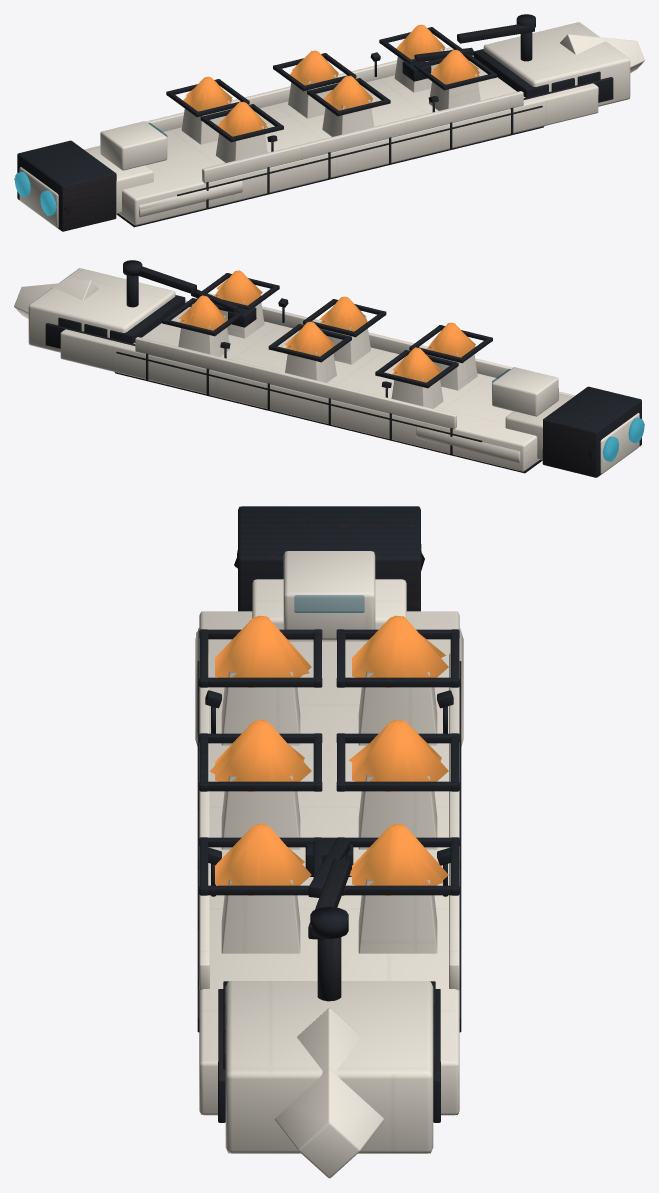
File: ore_barge.glb
3 views of the same model, one above another, from view 1: azimuth 30°, elevation 25°; view 2: azimuth 150°, elevation 25°; view 3: azimuth 270°, elevation 25° (orthographic). The views are drawn at different scales.
Visible parts, largest first — view 1: LOD0_Merged_Material_Hull, LOD0_Merged_Material_Mechanical, LOD0_Merged_Material_Warm, LOD1_Merged_Material_Hull, LOD1_Merged_Material_Warm, LOD0_HOOK_DRIVE_CORE, LOD2_Merged_Material_Warm; view 2: LOD0_Merged_Material_Hull, LOD0_Merged_Material_Mechanical, LOD0_Merged_Material_Warm, LOD1_Merged_Material_Warm, LOD1_Merged_Material_Hull, LOD0_HOOK_DRIVE_CORE, LOD2_Merged_Material_Warm; view 3: LOD0_Merged_Material_Hull, LOD0_Merged_Material_Mechanical, LOD0_Merged_Material_Warm, LOD1_Merged_Material_Warm, LOD1_Merged_Material_Hull, LOD0_Merged_Material_Glass, LOD2_Merged_Material_Warm.
Boxes of the visible parts, x1,y1,x2,y2 form: LOD0_Merged_Material_Hull: [19, 22, 644, 227]; LOD0_Merged_Material_Mechanical: [17, 14, 613, 231]; LOD0_Merged_Material_Warm: [183, 24, 479, 142]; LOD1_Merged_Material_Hull: [19, 34, 644, 227]; LOD1_Merged_Material_Warm: [186, 25, 479, 136]; LOD0_HOOK_DRIVE_CORE: [15, 172, 56, 215]; LOD2_Merged_Material_Warm: [186, 25, 478, 133]; LOD0_Merged_Material_Hull: [14, 268, 639, 473]; LOD0_Merged_Material_Mechanical: [45, 260, 641, 477]; LOD0_Merged_Material_Warm: [179, 270, 473, 388]; LOD1_Merged_Material_Warm: [184, 270, 475, 382]; LOD1_Merged_Material_Hull: [21, 282, 618, 473]; LOD0_HOOK_DRIVE_CORE: [603, 417, 644, 461]; LOD2_Merged_Material_Warm: [179, 271, 475, 380]; LOD0_Merged_Material_Hull: [195, 551, 463, 1177]; LOD0_Merged_Material_Mechanical: [197, 506, 461, 1122]; LOD0_Merged_Material_Warm: [215, 615, 448, 895]; LOD1_Merged_Material_Warm: [210, 616, 443, 885]; LOD1_Merged_Material_Hull: [196, 551, 463, 1177]; LOD0_Merged_Material_Glass: [294, 595, 364, 612]; LOD2_Merged_Material_Warm: [212, 616, 445, 885].
Size of what is drawn, in the model's own units: 39.67 by 6.55 by 7.64.
Materials: 5 (5 with a texture image).
